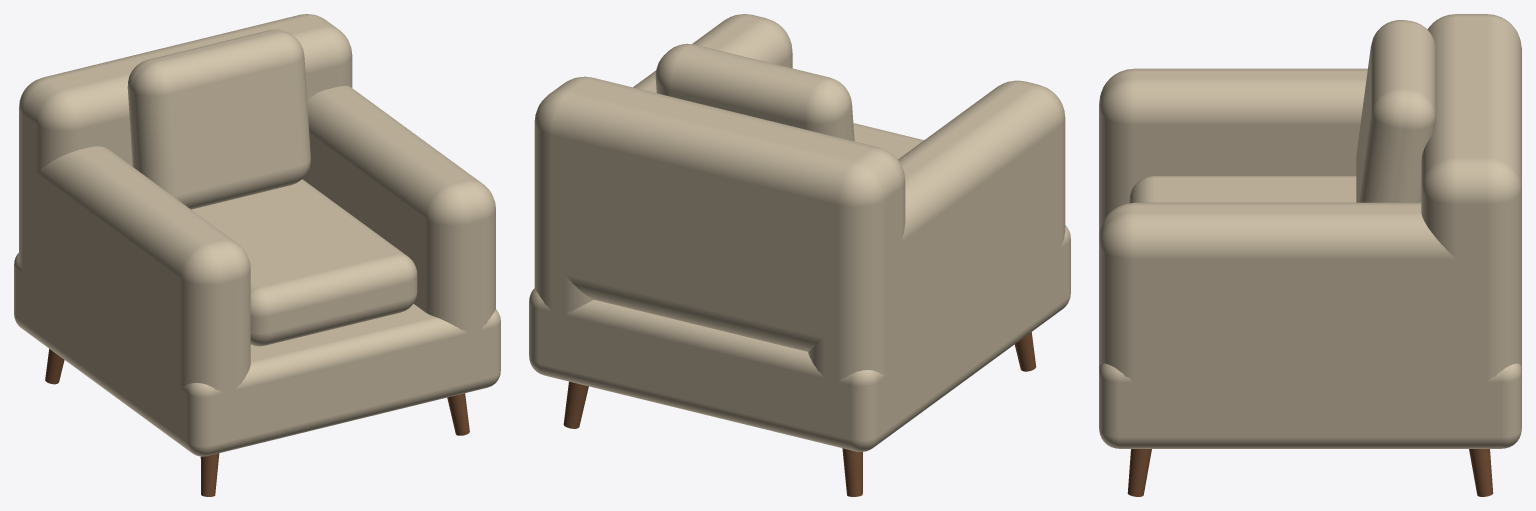
Rendered from chair.glb.
The picture shows the model from 3 angles, left to right: view 1: azimuth 30°, elevation 25°; view 2: azimuth 150°, elevation 25°; view 3: azimuth 270°, elevation 25°; orthographic projection. The views are drawn at different scales.
Bounding box in the file's own units: 0.8 × 0.8112 × 0.84.
